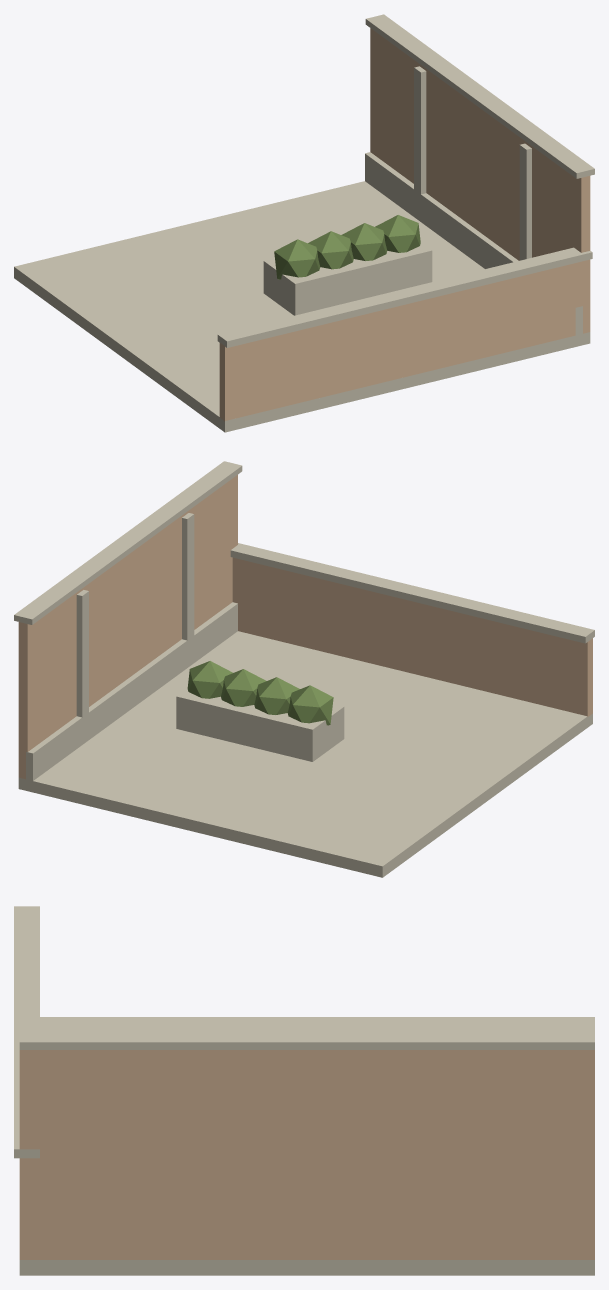
Rendered from district-2-2-1.glb.
3 views of the same model, one above another, from view 1: azimuth 30°, elevation 25°; view 2: azimuth 150°, elevation 25°; view 3: azimuth 270°, elevation 25° (orthographic). The views are drawn at different scales.
Visible parts, largest first — view 1: stone.017, plaster.015, leaf.005; view 2: stone.017, plaster.015, leaf.005; view 3: plaster.015, stone.017.
Boxes of the visible parts, bbox=[...] form: stone.017: bbox=[14, 14, 594, 432]; plaster.015: bbox=[219, 28, 590, 421]; leaf.005: bbox=[274, 215, 420, 279]; stone.017: bbox=[14, 461, 594, 877]; plaster.015: bbox=[18, 475, 592, 779]; leaf.005: bbox=[187, 661, 333, 725]; plaster.015: bbox=[19, 1050, 594, 1259]; stone.017: bbox=[14, 906, 594, 1275].
Size of the model in its own units: 8.1 by 3.63 by 8.08.
